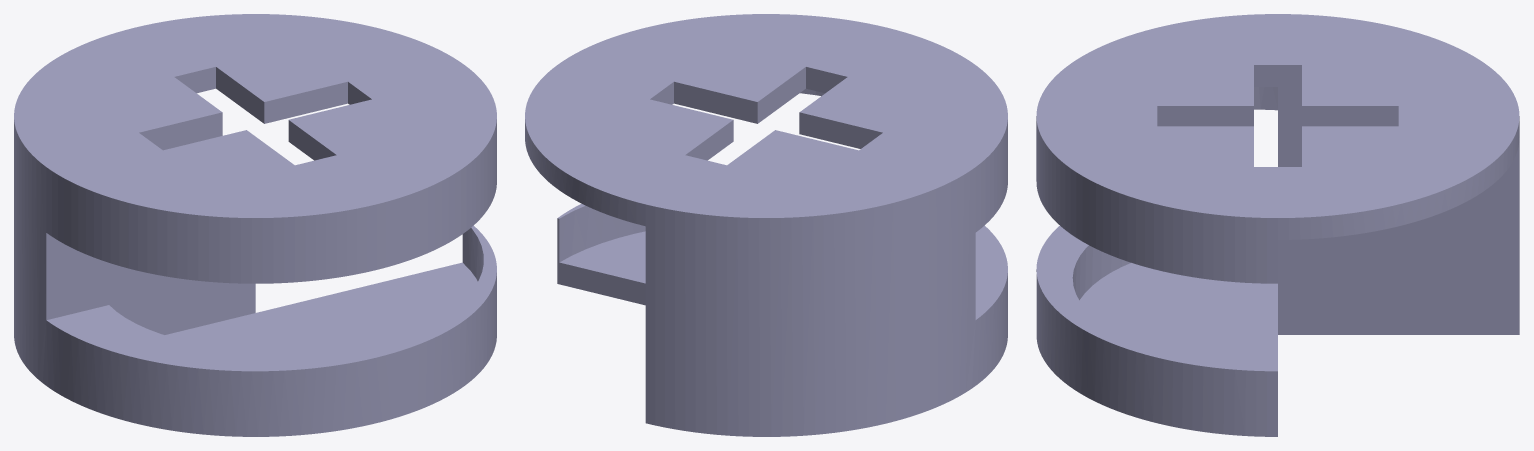
The model's file is anchor.gltf.
The picture shows the model from 3 angles, left to right: view 1: azimuth 30°, elevation 25°; view 2: azimuth 150°, elevation 25°; view 3: azimuth 270°, elevation 25°; orthographic projection.
Parts seen in each view (by area): view 1: anchor; view 2: anchor; view 3: anchor.
Boxes of the visible parts, box(x1,y1,x2,y2) form: anchor: box(14, 14, 496, 436); anchor: box(525, 14, 1007, 436); anchor: box(1036, 14, 1519, 436).
Size of the model in its own units: 0.01 by 0.005 by 0.01.
